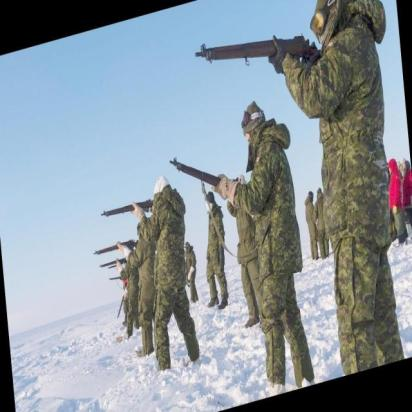Gun: (184, 6, 322, 109), (164, 143, 226, 203), (97, 192, 154, 230), (86, 233, 138, 262)
